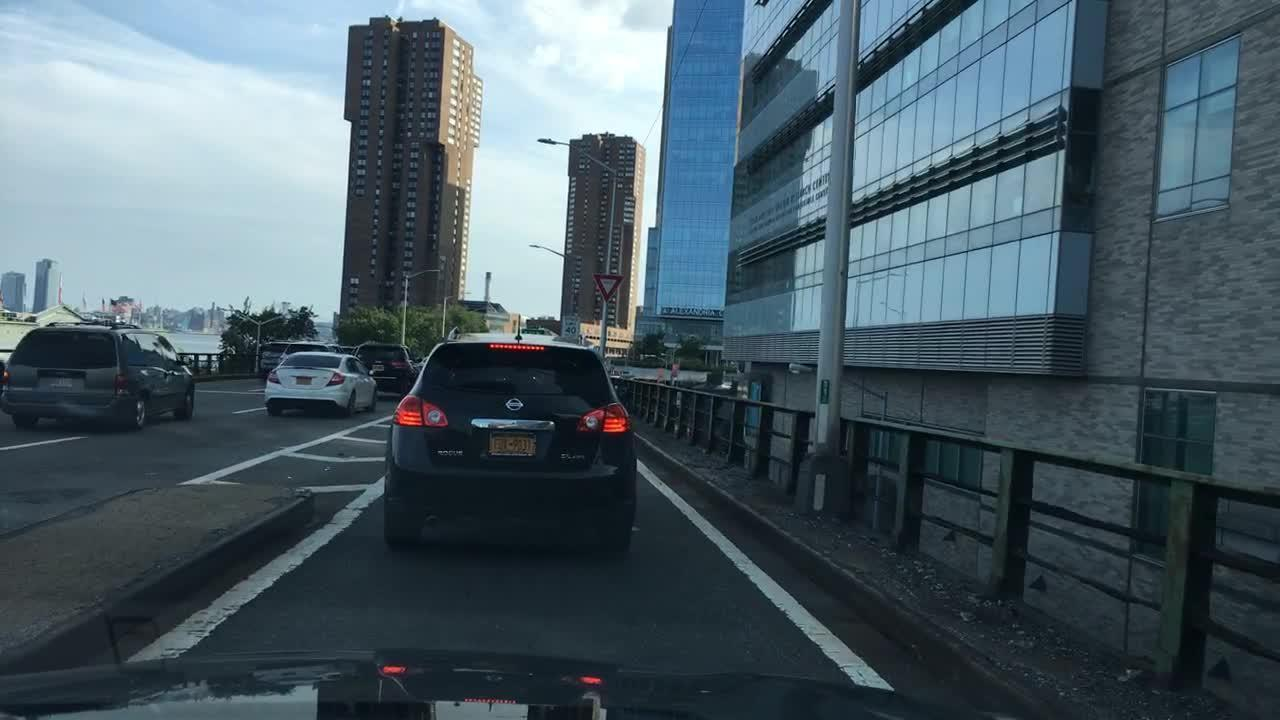Nissan: (497, 390, 533, 424)
